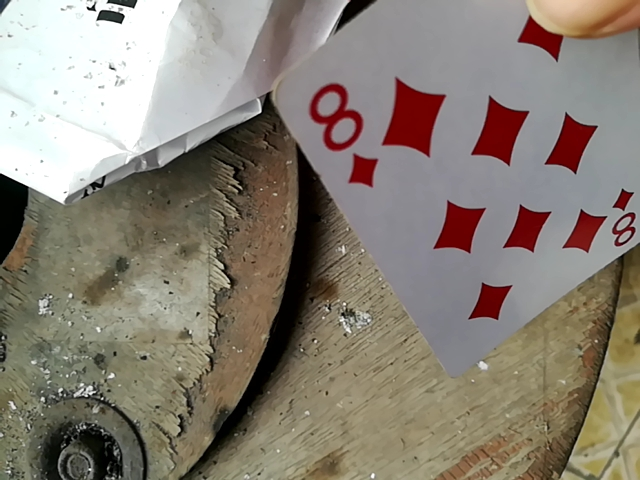fk 8: (273, 0, 640, 376)
